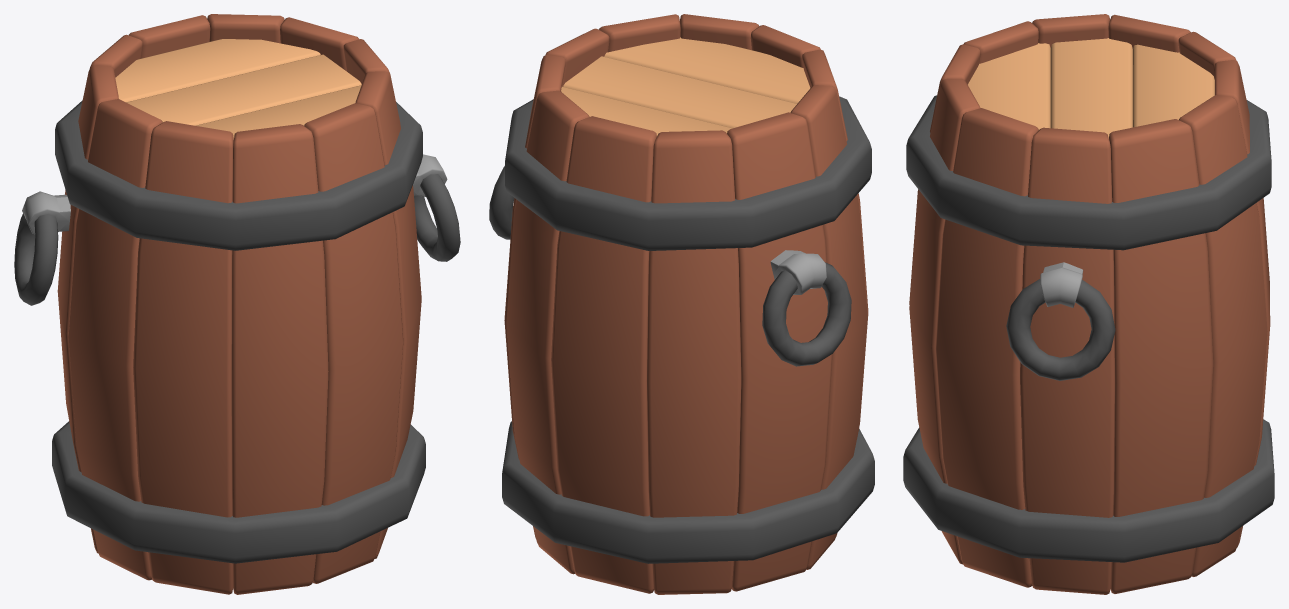
The model's file is Wooden_Barrel_02.fbx.
The picture shows the model from 3 angles, left to right: view 1: azimuth 30°, elevation 25°; view 2: azimuth 150°, elevation 25°; view 3: azimuth 270°, elevation 25°; orthographic projection.
Visible parts, largest first — view 1: Wooden_Barrel_02; view 2: Wooden_Barrel_02; view 3: Wooden_Barrel_02.
Boxes of the visible parts, left/top/right/bottom form: Wooden_Barrel_02: left=14, top=14, right=460, bottom=594; Wooden_Barrel_02: left=489, top=14, right=874, bottom=594; Wooden_Barrel_02: left=903, top=14, right=1274, bottom=594.
Bounding box in the file's own units: 738 × 850 × 628.
